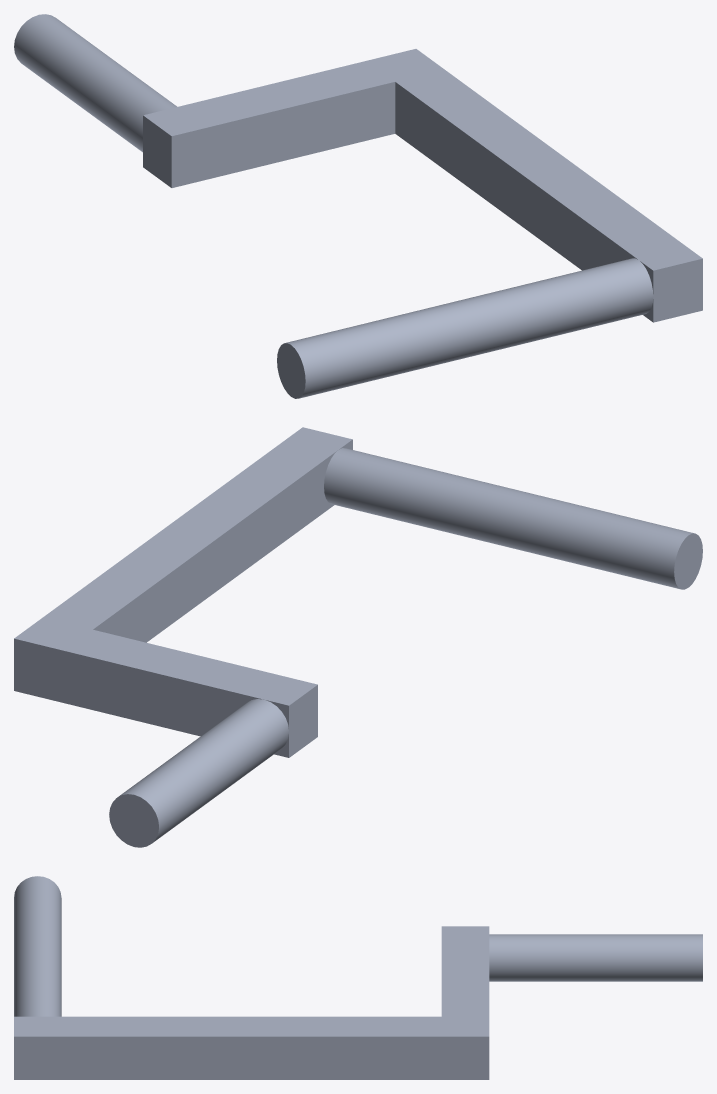
The model's file is left_front_lmount.dae.
3 renders of one model, top to bottom at view 1: azimuth 30°, elevation 25°; view 2: azimuth 150°, elevation 25°; view 3: azimuth 270°, elevation 25°, orthographic. The views are drawn at different scales.
Parts seen in each view (by area): view 1: Body_1; view 2: Body_1; view 3: Body_1.
Boxes of the visible parts, bbox=[...] form: Body_1: bbox=[14, 14, 702, 398]; Body_1: bbox=[14, 427, 702, 847]; Body_1: bbox=[14, 876, 702, 1079].
Size of the model in its own units: 0.1016 by 0.1841 by 0.0127.
